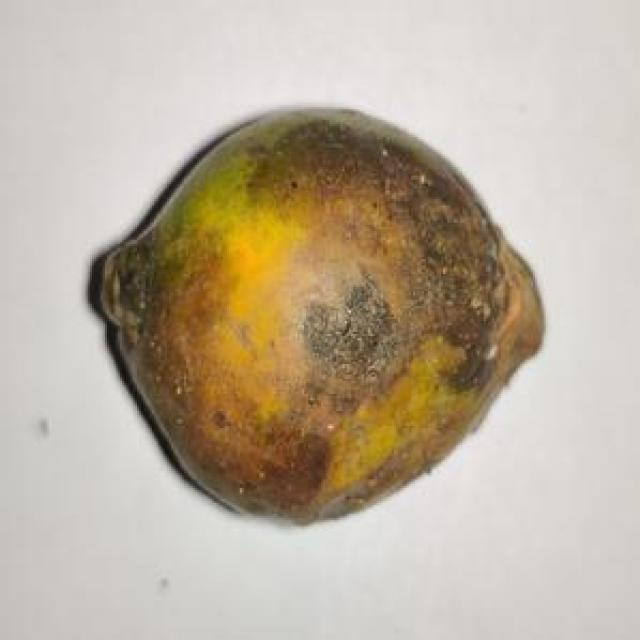damaged: (88, 109, 546, 531)
